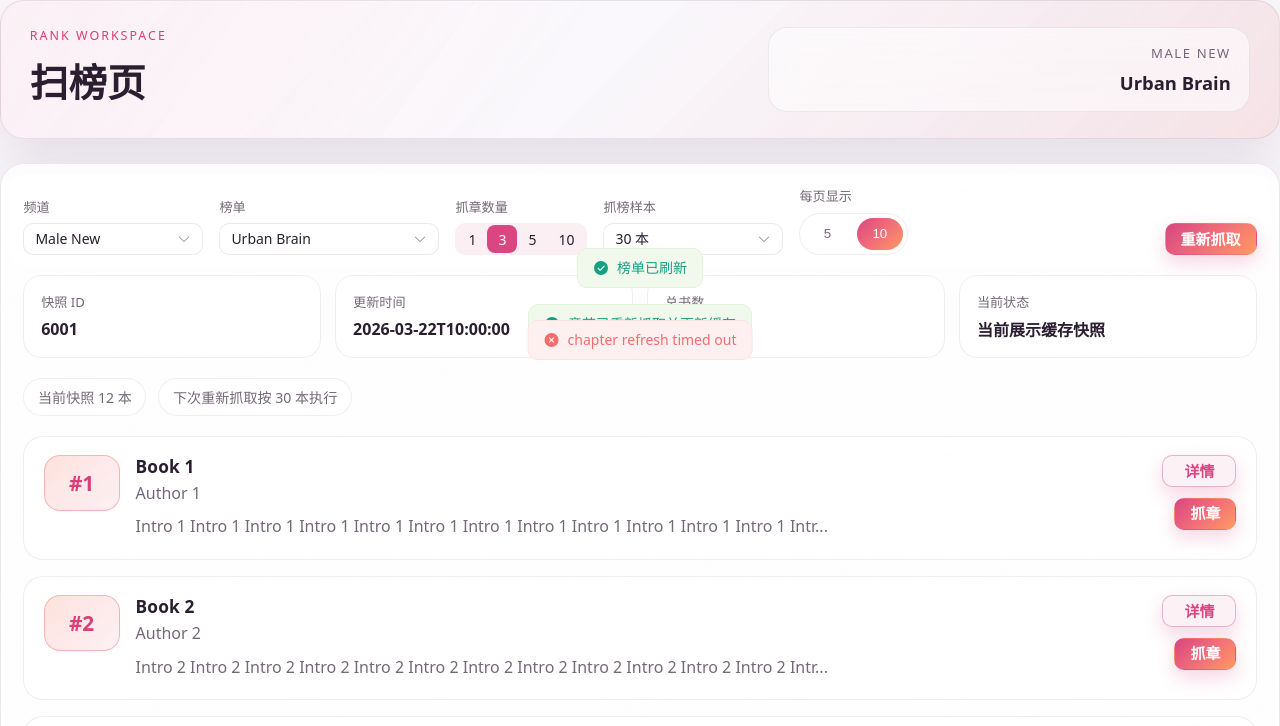
Test case: RankView › recovers timed-out chapter refreshes without requiring a browser reload
Click the button with test id "rank-chapters-1001".
click(1205, 514)  # box [1174, 498, 1236, 530]
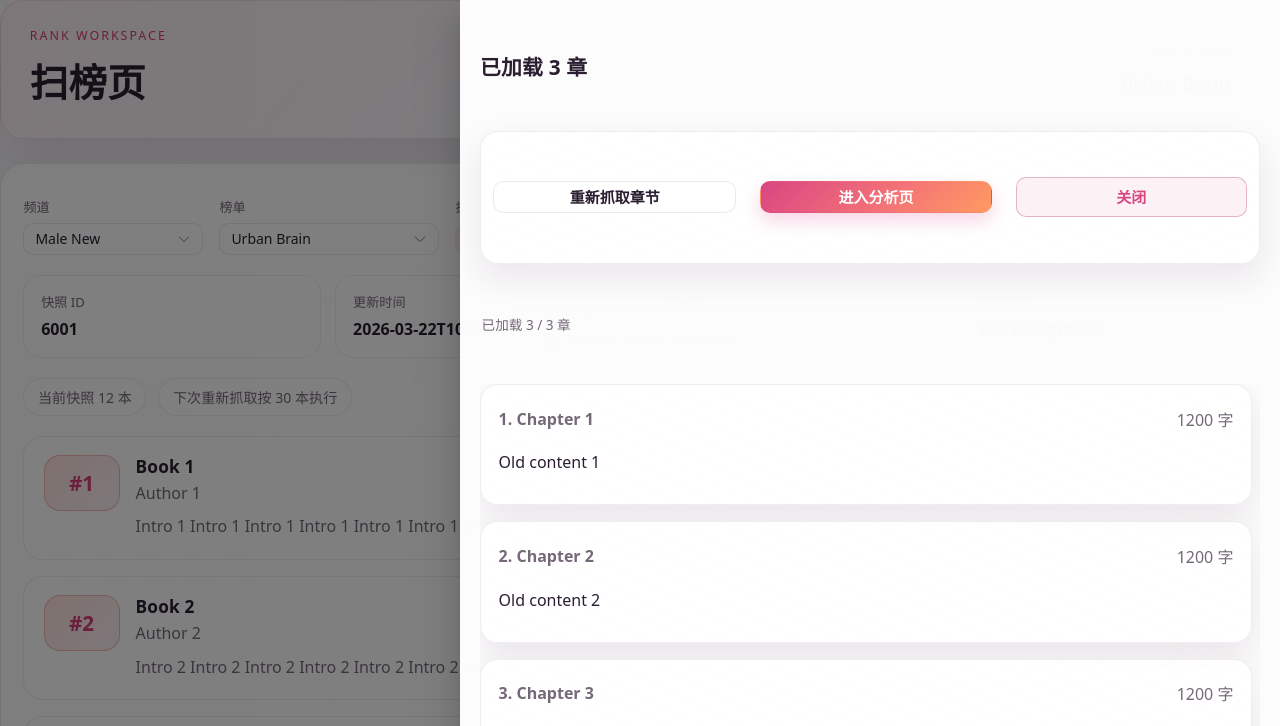
Now the text "Chapter 1" is shown, box [499, 408, 594, 430]
Click the button with test id "refresh-chapters".
click(615, 198)  # box [493, 182, 736, 214]
Wait 2500 ms
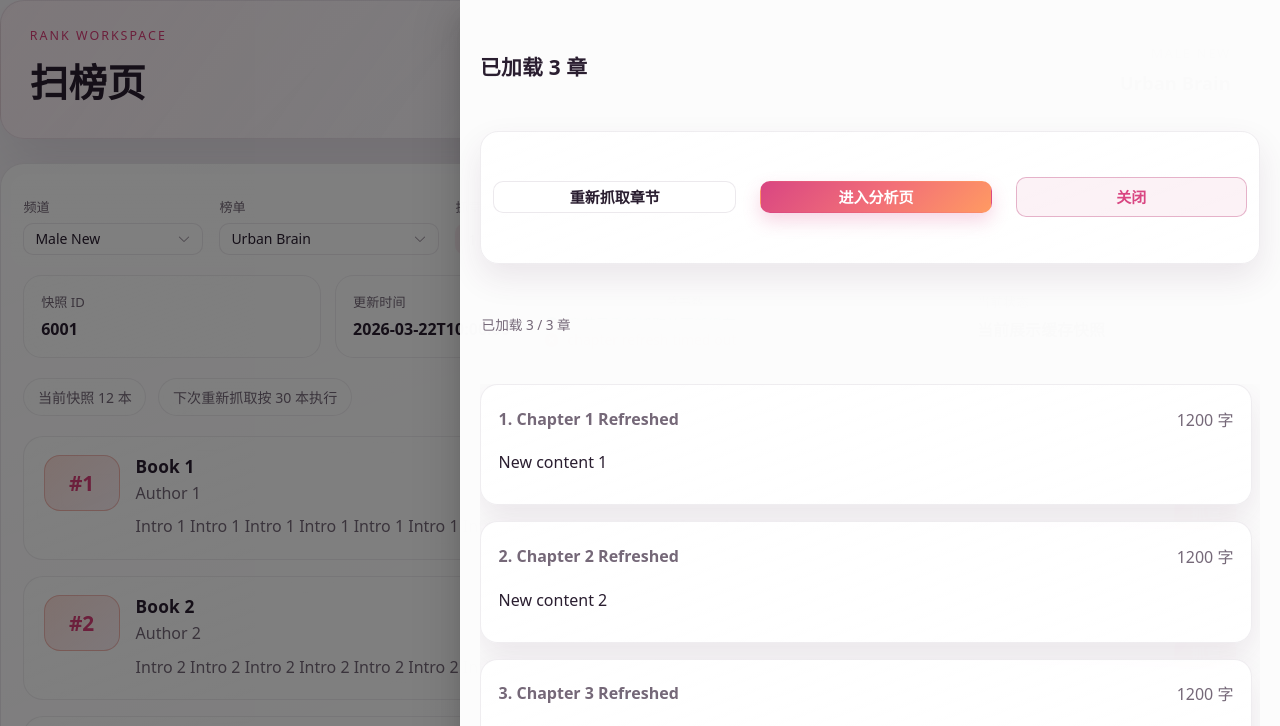
Now the text "Chapter 1 Refreshed" is shown, box [499, 408, 679, 430]
